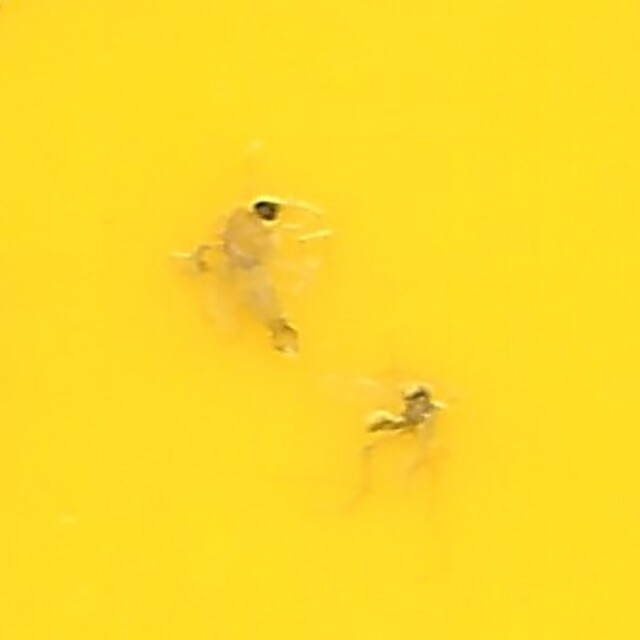Nematocera: (190, 187, 312, 349), (368, 377, 450, 453)
